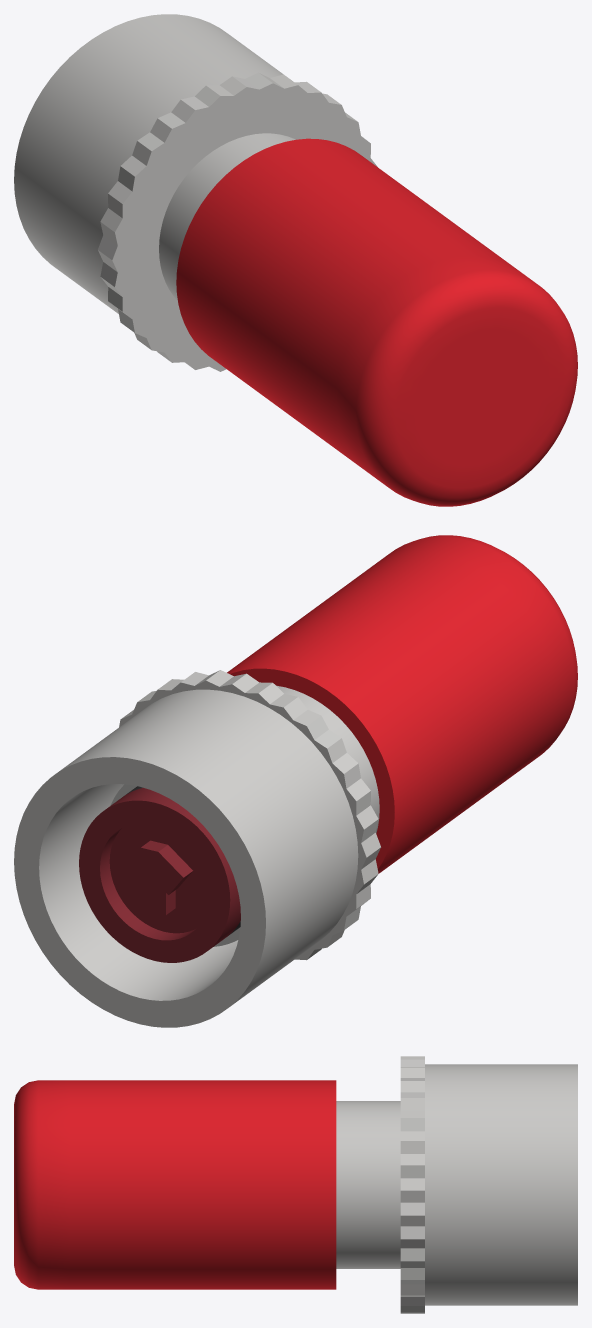
The picture shows the model from 3 angles, top to bottom: view 1: azimuth 30°, elevation 25°; view 2: azimuth 150°, elevation 25°; view 3: azimuth 270°, elevation 25°; orthographic projection. The views are drawn at different scales.
Visible parts, largest first — view 1: retractable_stamp; view 2: retractable_stamp; view 3: retractable_stamp.
Part boxes in pixels (<box>): retractable_stamp: <box>14,14,577,506</box>; retractable_stamp: <box>14,535,577,1027</box>; retractable_stamp: <box>14,1056,577,1313</box>.
Size of the model in its own units: 0.032 by 0.032 by 0.07.
Materials: 1 (1 with a texture image).
